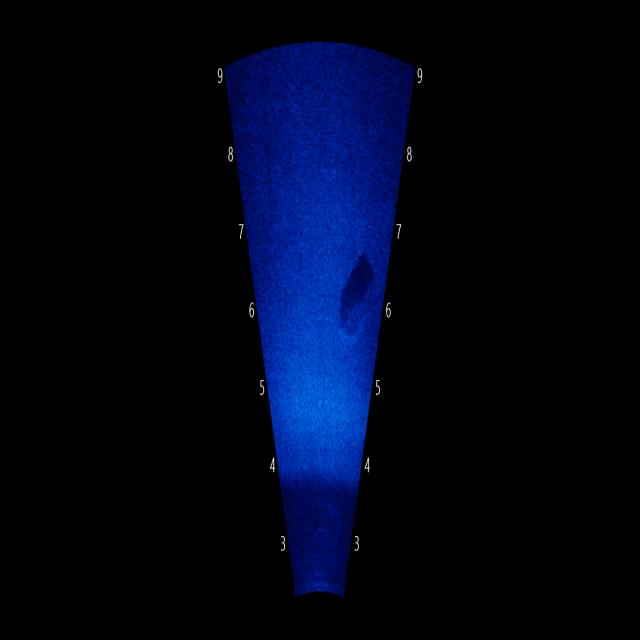square: (338, 240, 381, 357)
